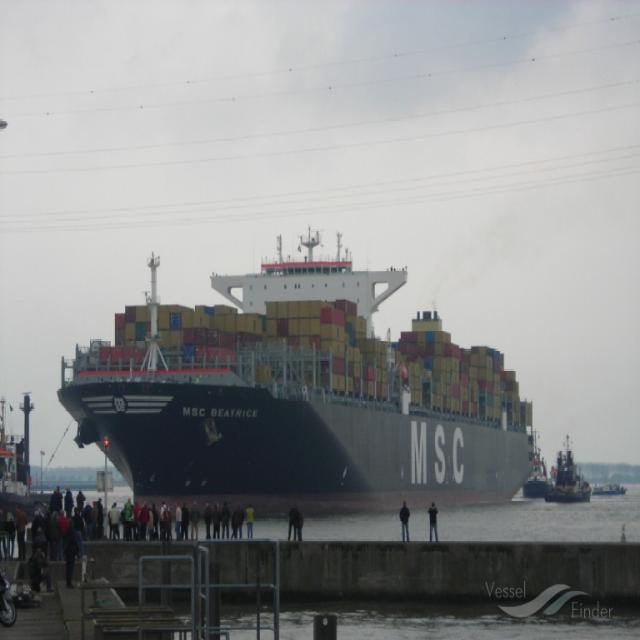Container Ship: (58, 228, 532, 512)
tugboat: (543, 429, 595, 501)
